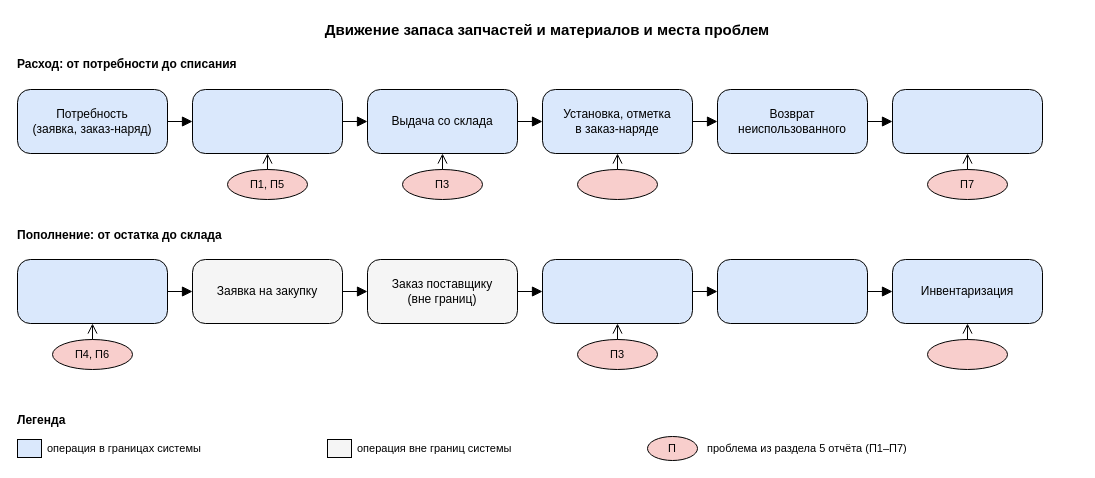
Image size: 1095x478. Some labels were removed from this diagram. Each missing label, with the box of its shape:
Контроль остатка и сроков: (16, 258, 168, 324)
П1: (926, 338, 1008, 370)
П2, П3: (576, 168, 658, 200)
Приёмка и входной контроль: (542, 258, 692, 324)
Проверка наличия: (192, 88, 342, 154)
Размещение на складе: (716, 258, 868, 324)
Снятая деталь: годная или негодная: (892, 88, 1042, 154)
